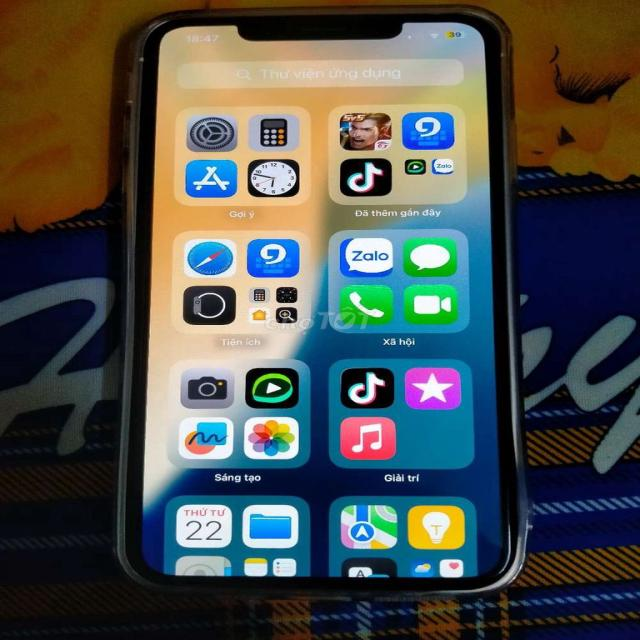gen_x_xs: (120, 4, 530, 593)
